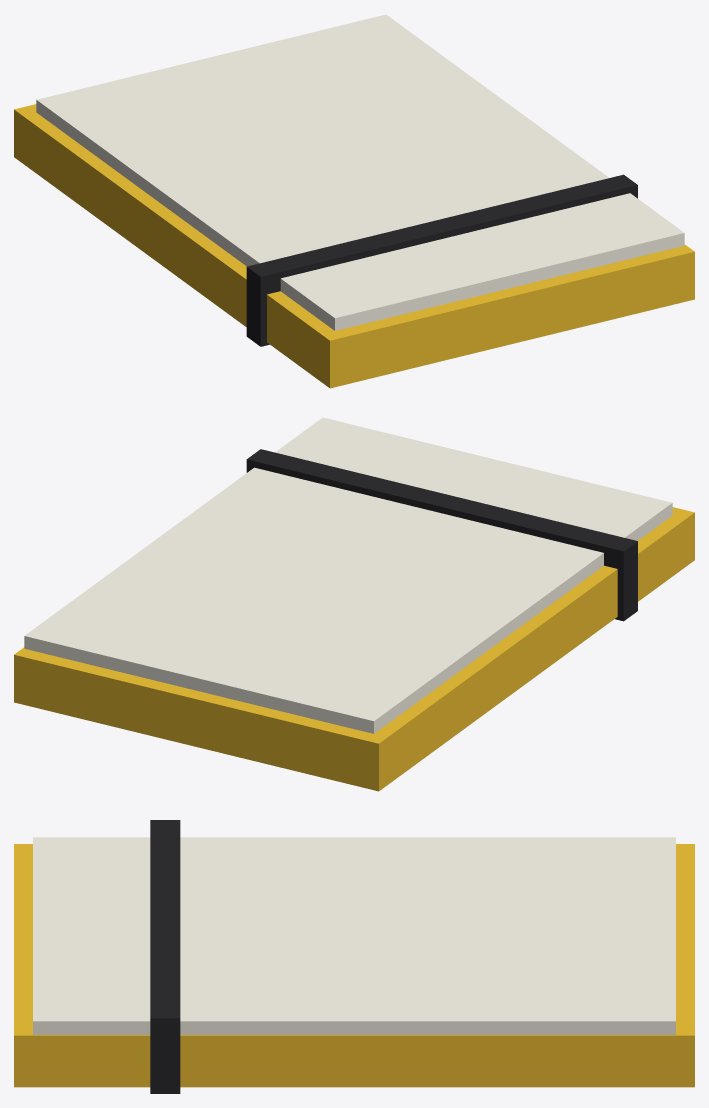
The model's file is garage_trips_notebook.glb.
3 renders of one model, top to bottom at view 1: azimuth 30°, elevation 25°; view 2: azimuth 150°, elevation 25°; view 3: azimuth 270°, elevation 25°, orthographic. The views are drawn at different scales.
Visible parts, largest first — view 1: pages_sheet_paper, cover_taxi_yellow, band_flash_black; view 2: pages_sheet_paper, cover_taxi_yellow, band_flash_black; view 3: pages_sheet_paper, cover_taxi_yellow, band_flash_black.
Part boxes in pixels (x1=…): pages_sheet_paper: x1=36, y1=14, x2=684, y2=330; cover_taxi_yellow: x1=14, y1=104, x2=694, y2=388; band_flash_black: x1=246, y1=174, x2=637, y2=346; pages_sheet_paper: x1=24, y1=417, x2=672, y2=733; cover_taxi_yellow: x1=14, y1=507, x2=694, y2=791; band_flash_black: x1=246, y1=449, x2=637, y2=621; pages_sheet_paper: x1=33, y1=837, x2=675, y2=1034; cover_taxi_yellow: x1=14, y1=844, x2=694, y2=1087; band_flash_black: x1=150, y1=820, x2=180, y2=1093.
Size of the model in its own units: 0.124 by 0.022 by 0.18.
